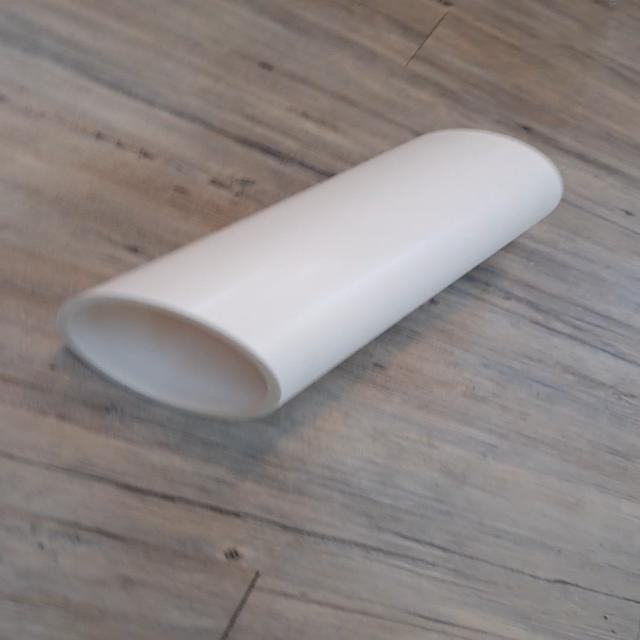CORAL: (51, 119, 580, 426)
